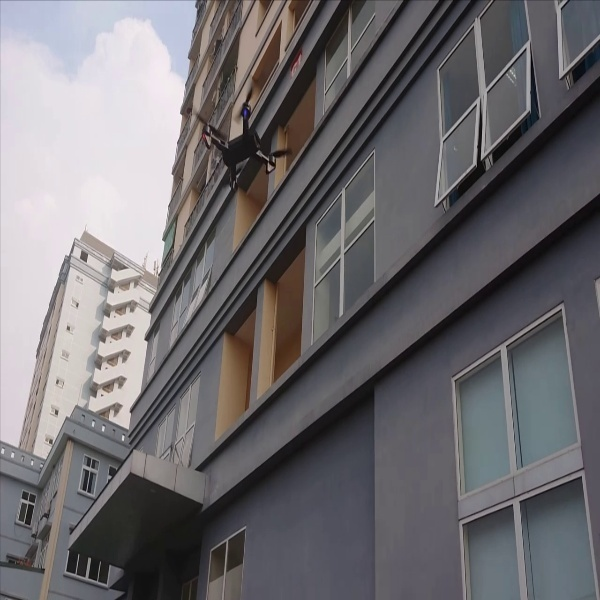drone: (185, 90, 299, 191)
